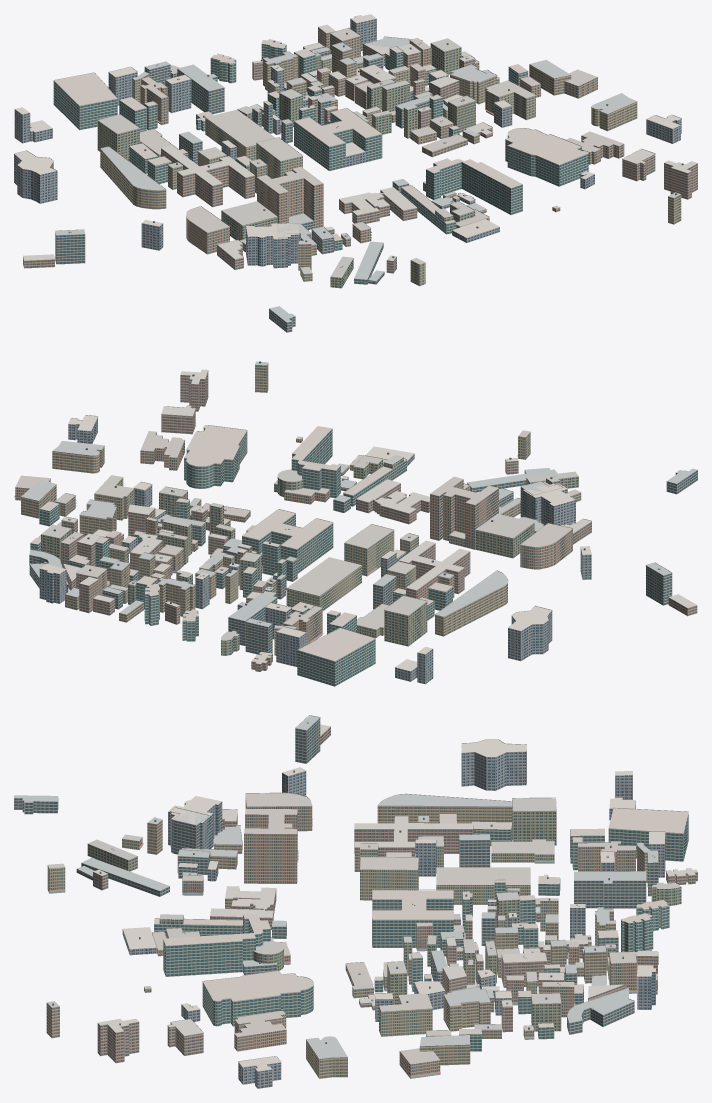
3 views of the same model, one above another, from view 1: azimuth 30°, elevation 25°; view 2: azimuth 150°, elevation 25°; view 3: azimuth 270°, elevation 25° (orthographic). The views are drawn at different scales.
Parts seen in each view (by area): view 1: Station 12 surrounding real OSM building footprints; view 2: Station 12 surrounding real OSM building footprints; view 3: Station 12 surrounding real OSM building footprints.
Part boxes in pixels (box(x1,y1,x2,y2)): Station 12 surrounding real OSM building footprints: box(14, 14, 697, 332); Station 12 surrounding real OSM building footprints: box(14, 361, 697, 686); Station 12 surrounding real OSM building footprints: box(14, 715, 697, 1088).
Size of the model in its own units: 777 by 50.85 by 631.
25 materials, 8 textured.
